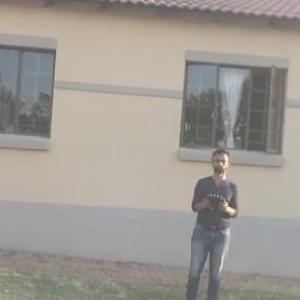follow: (179, 141, 244, 299)
